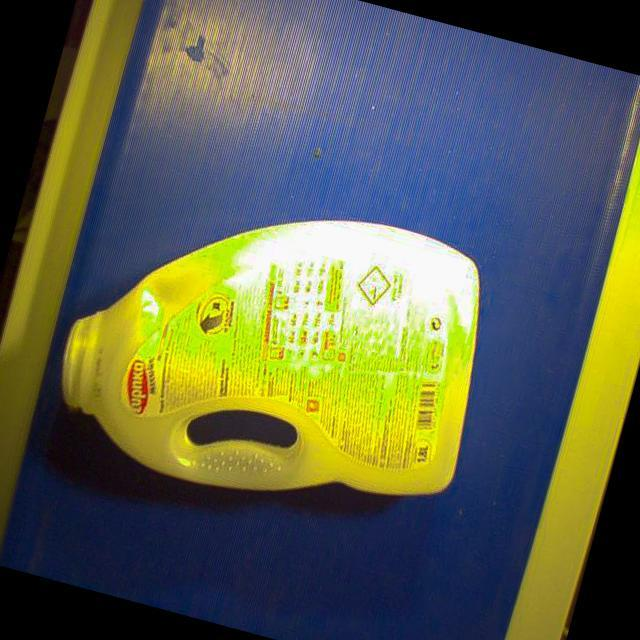HDPE Plastic: (55, 217, 486, 500)
